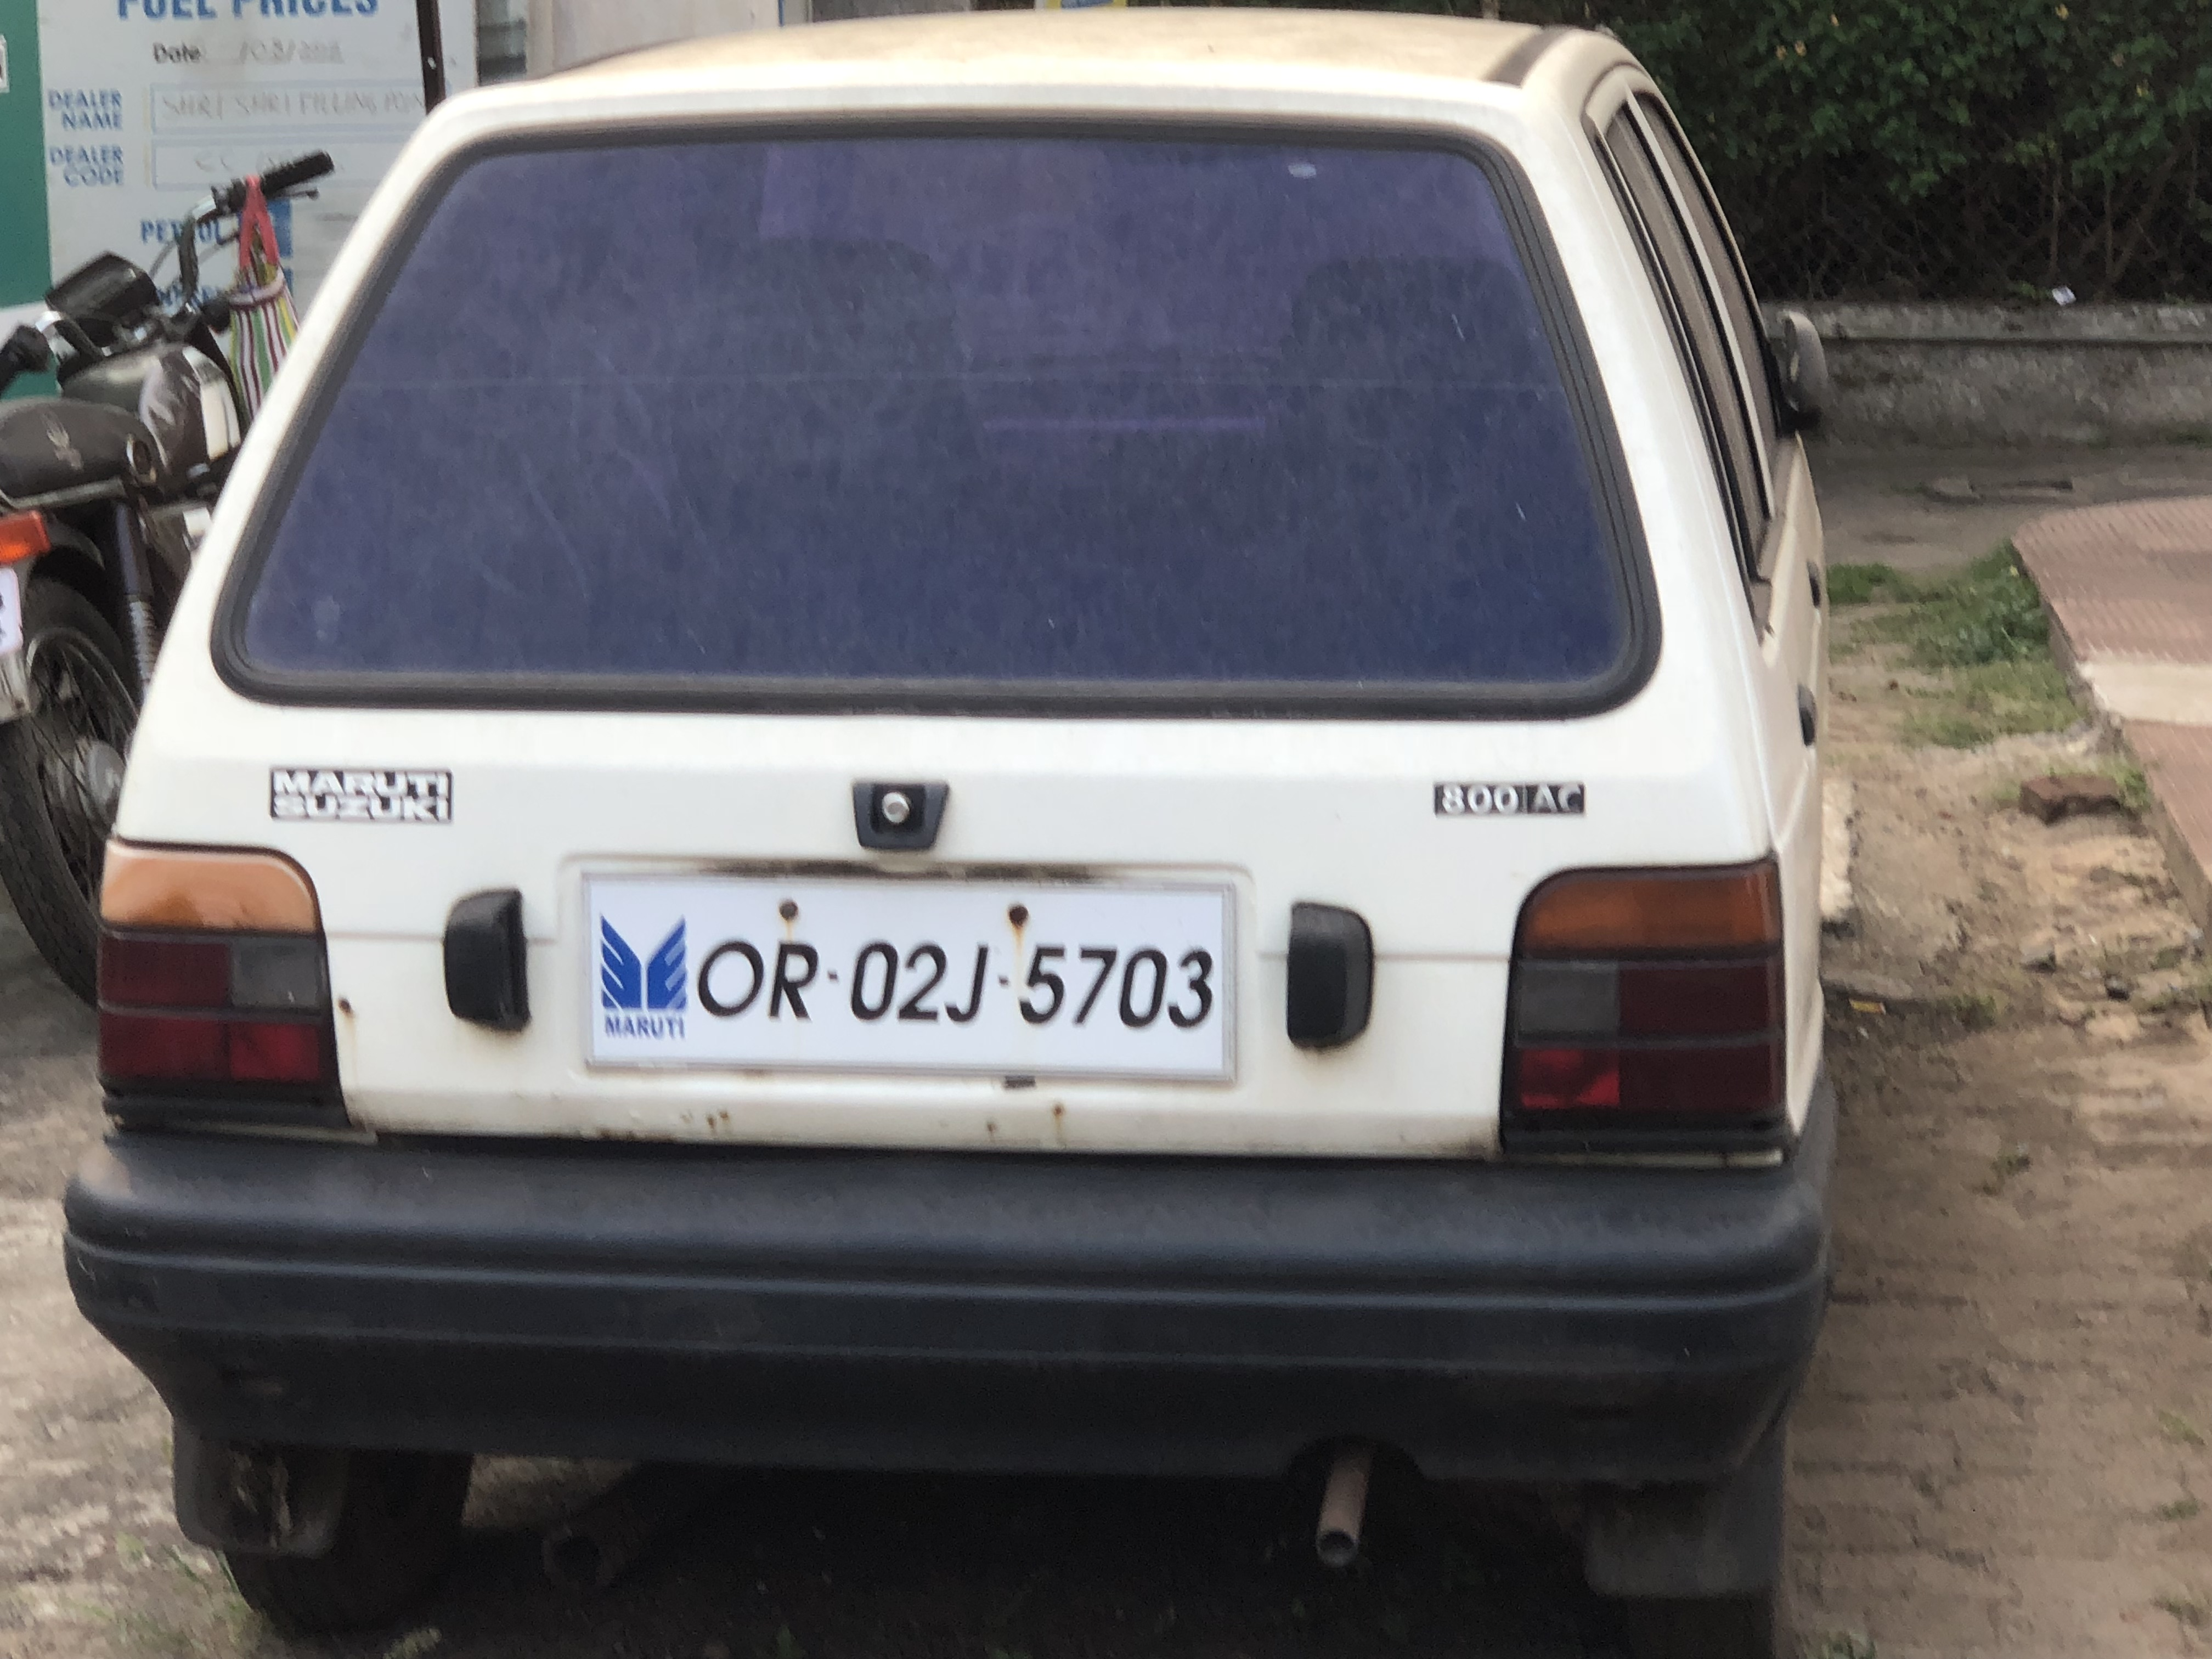licenseplate: (575, 870, 1238, 1085)
